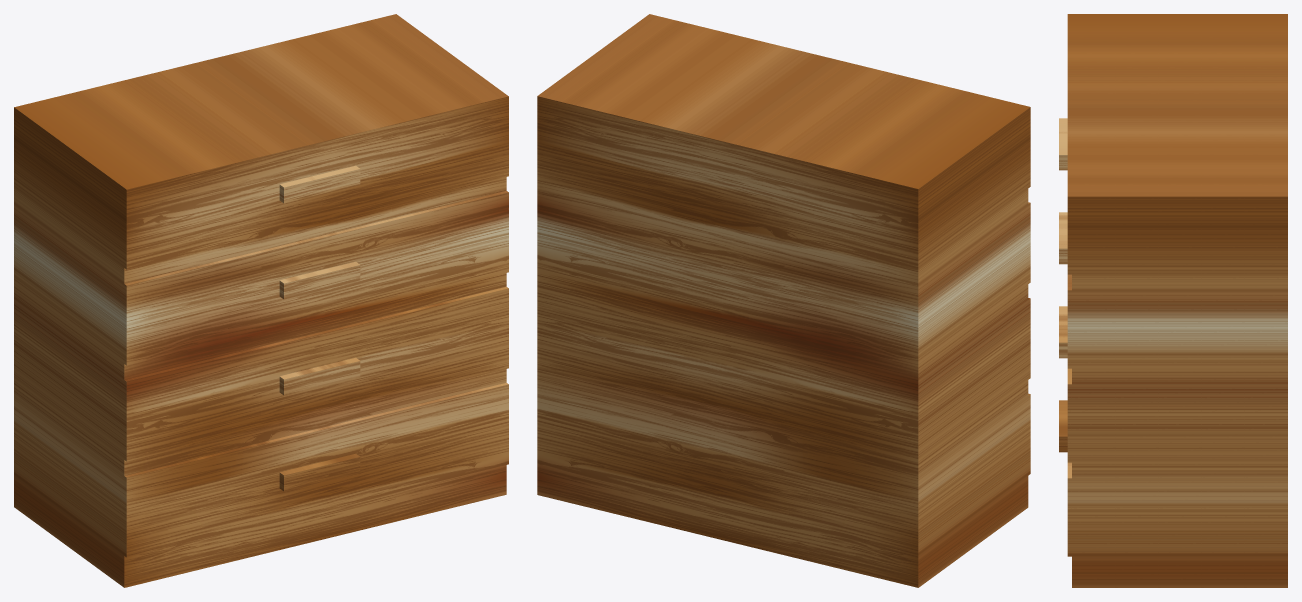
File: Furniture_Closet 1.fbx
3 renders of one model, left to right at view 1: azimuth 30°, elevation 25°; view 2: azimuth 150°, elevation 25°; view 3: azimuth 270°, elevation 25°, orthographic. The views are drawn at different scales.
Parts seen in each view (by area): view 1: pCube1; view 2: pCube1; view 3: pCube1.
Boxes of the visible parts, <box> form: pCube1: <box>14,14,508,587</box>; pCube1: <box>537,14,1030,587</box>; pCube1: <box>1059,14,1287,587</box>.
Size of the model in its own units: 100 by 100 by 53.
Materials: 1 (1 with a texture image).
